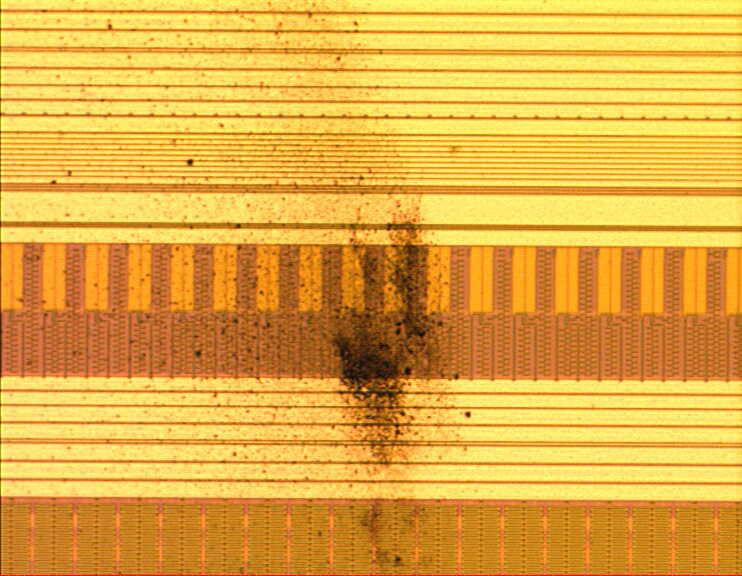PO CONTAMINATION: (1, 1, 474, 576)
